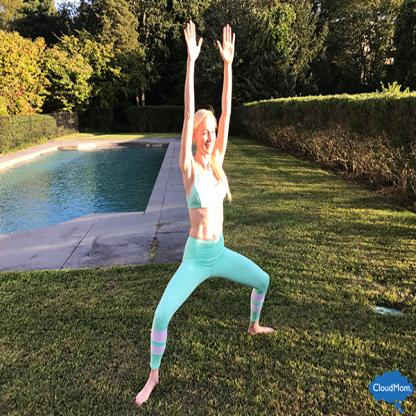godness: (128, 17, 289, 414)
